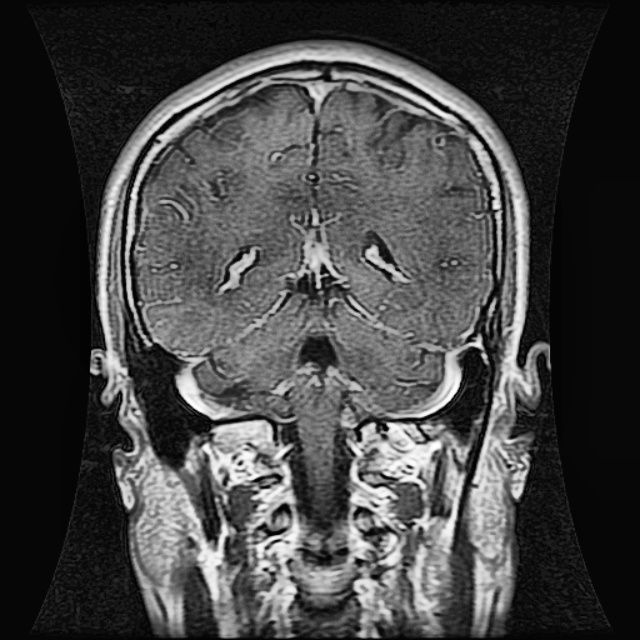Meningioma: (294, 333, 342, 389)
